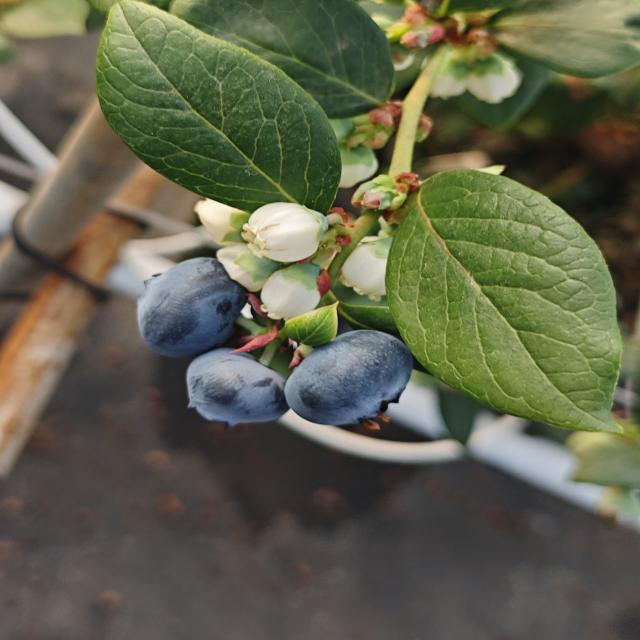ripe: (282, 332, 418, 437), (127, 256, 236, 352), (170, 342, 290, 428)
